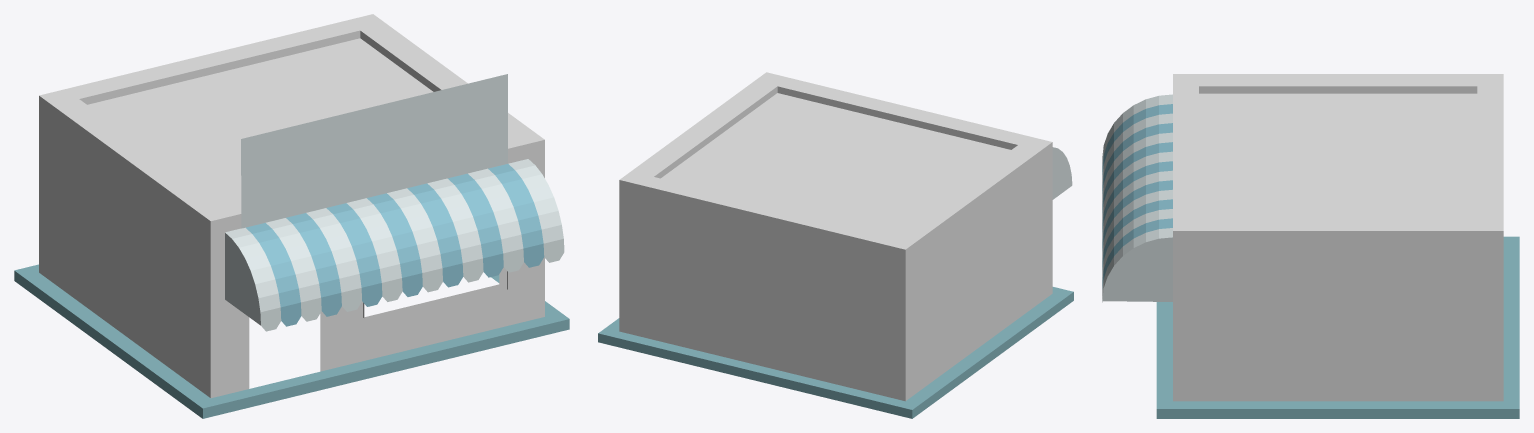
File: store1.glb
3 views of the same model, side by side, from view 1: azimuth 30°, elevation 25°; view 2: azimuth 150°, elevation 25°; view 3: azimuth 270°, elevation 25° (orthographic). The views are drawn at different scales.
Parts seen in each view (by area): view 1: store, Cylinder, Cube; view 2: store, Cylinder; view 3: store, Cylinder.
Boxes of the visible parts, bbox=[...] form: store: bbox=[14, 14, 569, 418]; Cylinder: bbox=[225, 74, 564, 331]; Cube: bbox=[358, 267, 507, 325]; store: bbox=[598, 72, 1073, 418]; Cylinder: bbox=[1052, 147, 1072, 199]; store: bbox=[1156, 74, 1519, 418]; Cylinder: bbox=[1102, 94, 1172, 302].
Size of what is drawn, in the model's own units: 4.95 by 3.4 by 5.07.
